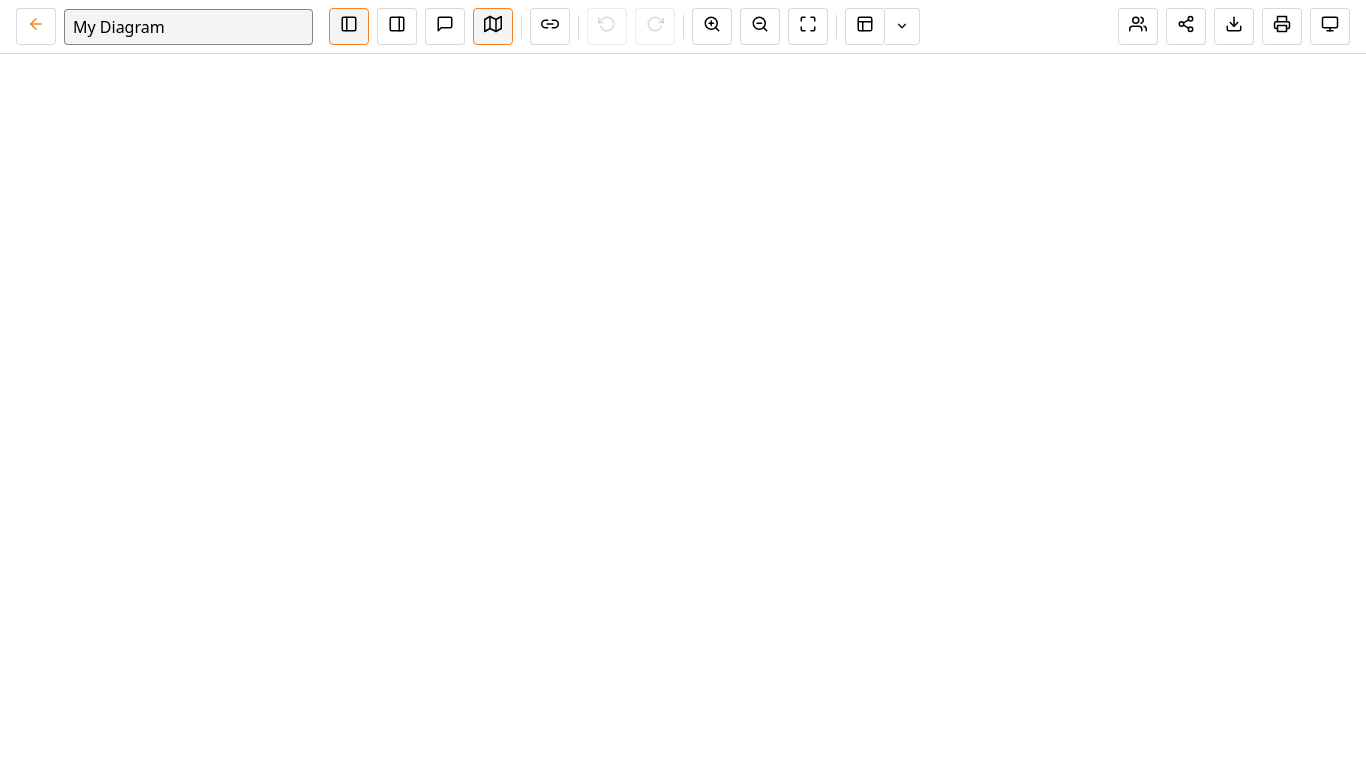
Test: connecting nodes › closes the dialog again
The width and height of the screenshot is (1366, 768).
Click the button named "Connect nodes" at (550, 26), box 530,8 -> 570,45
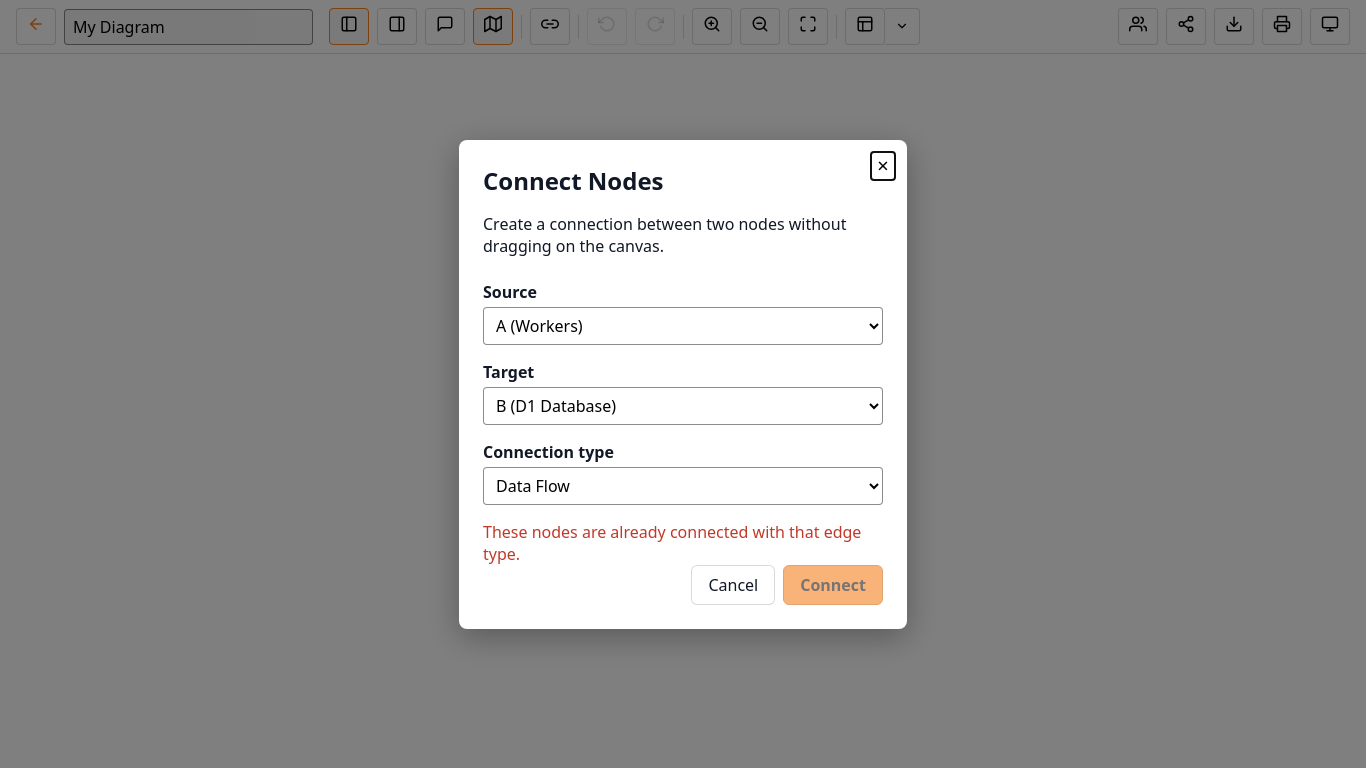
Click the button "Cancel" at (733, 584), box 691,564 -> 775,604
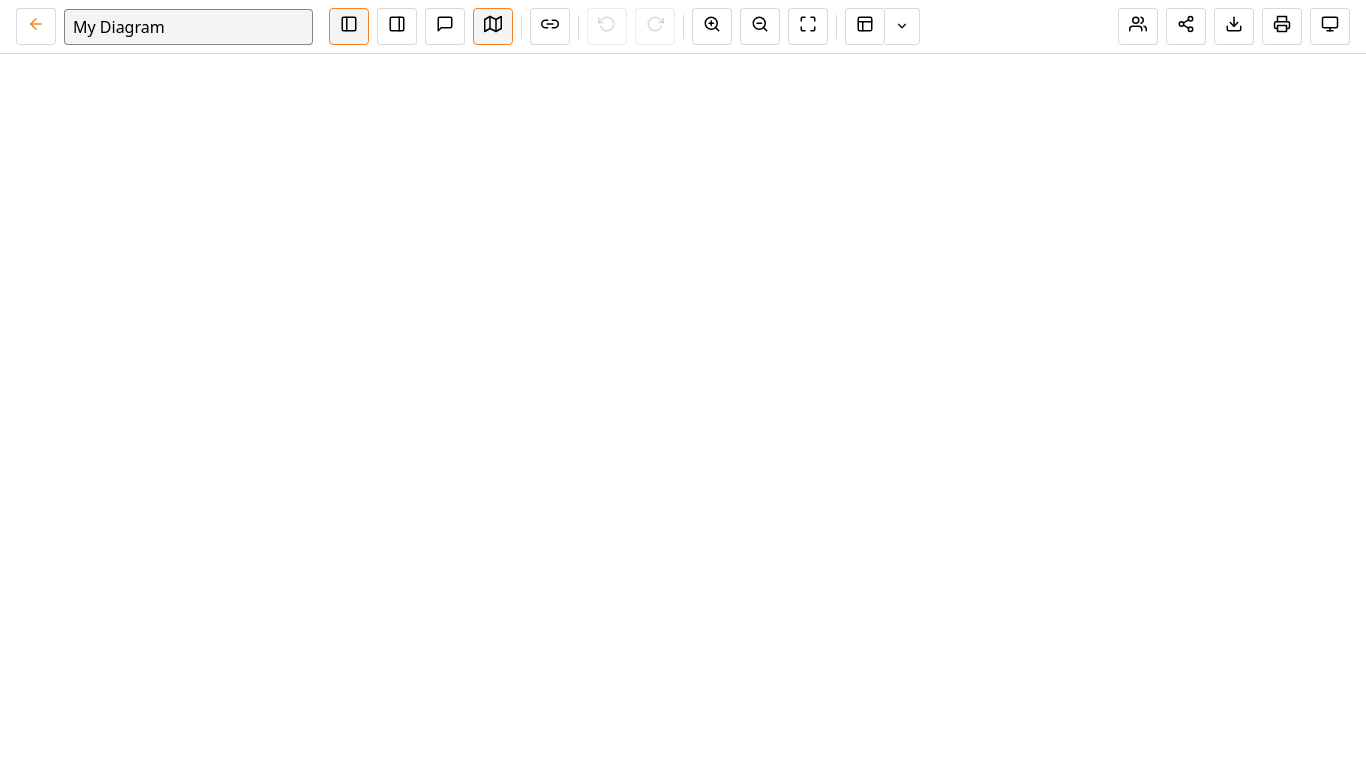
Expected: the dialog is gone
